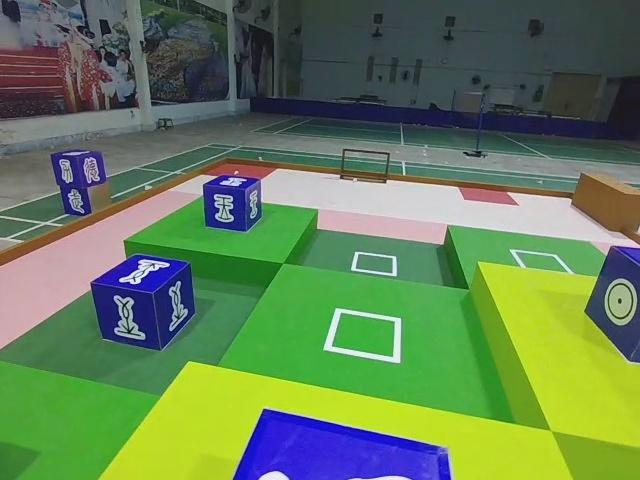R2 Fake Blue: (49, 148, 107, 189)
R2 Real Blue: (91, 253, 197, 351), (584, 248, 640, 374), (201, 176, 262, 236)
